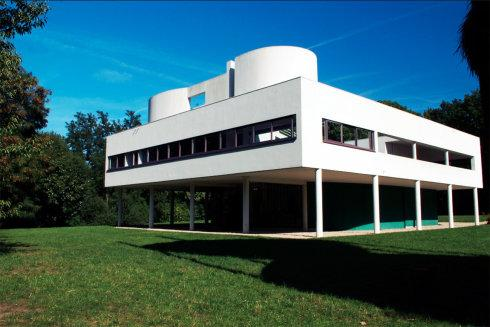buildings: (112, 54, 463, 226)
sky_cloud: (24, 33, 260, 101)
